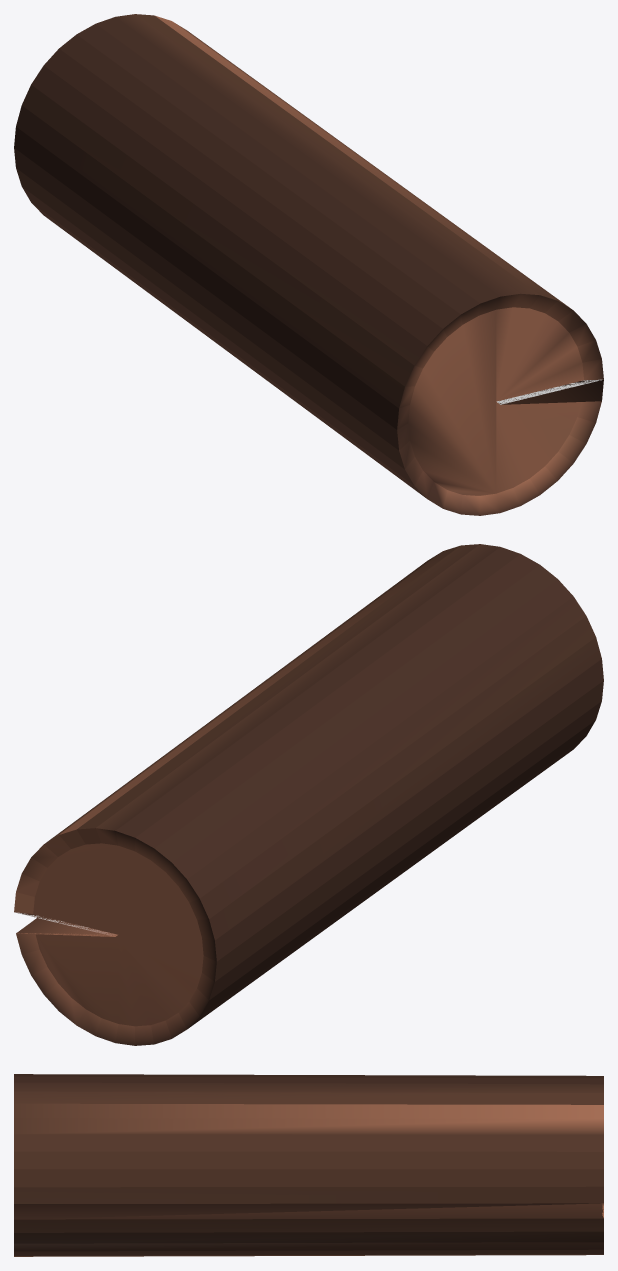
The model's file is wood DOUBLE.fbx.
3 views of the same model, one above another, from view 1: azimuth 30°, elevation 25°; view 2: azimuth 150°, elevation 25°; view 3: azimuth 270°, elevation 25° (orthographic). The views are drawn at different scales.
Visible parts, largest first — view 1: Cube; view 2: Cube; view 3: Cube.
Boxes of the visible parts, x1,y1,x2,y2 form: Cube: [14, 14, 603, 515]; Cube: [14, 544, 603, 1045]; Cube: [14, 1074, 603, 1256].
Size of the model in its own units: 275 by 275 by 888.
